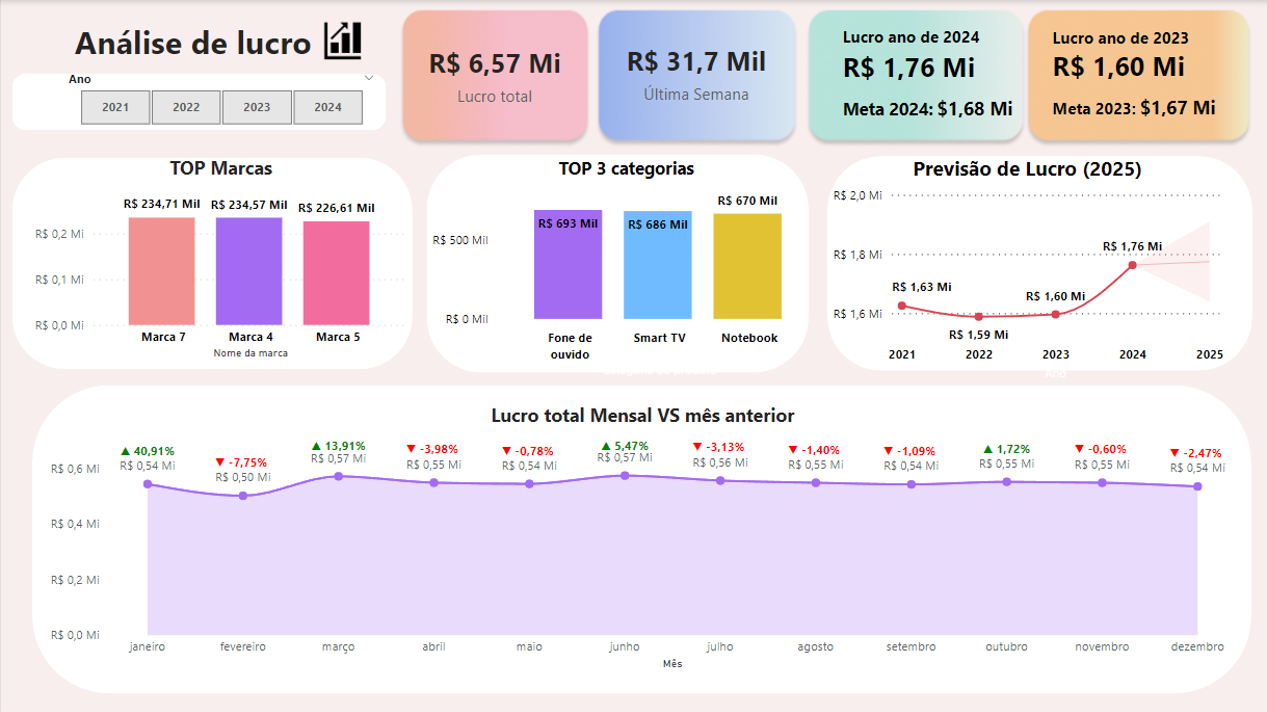

What the dashboard file says about the page in this screenshot:
{"tool":"powerbi","page":{"name":"Análise de Lucro","canvas":[1280,720],"ordinal":0},"visuals":[{"type":"shape","box":[10.9,73.4,378,57.8],"z":0},{"type":"shape","box":[834,157.7,429.5,217.1],"z":1000},{"type":"shape","box":[31.7,388.3,1231.7,311.7],"z":2000},{"type":"shape","box":[11,159.1,404.8,214.2],"z":3000},{"type":"areaChart","title":"Lucro total Mensal VS mês anterior","fields":{"Y":["Medidas.Lucro total","Medidas.Rótulo 2"],"Category":["Calendário.Data.Variation.Hierarquia de datas.Mês","Calendário.Data.Variation.Hierarquia de datas.Dia"]},"box":[44.1,406.4,1208.1,274.1],"z":4000},{"type":"card","fields":{"Values":["Medidas.Lucro total"]},"box":[388.9,6.1,218.7,135.7],"z":5000},{"type":"slicer","fields":{"Values":["Calendário.Ano"]},"box":[55.1,66.2,333.9,66.2],"z":6000},{"type":"cardVisual","fields":{"Data":["Medidas.Lucro ano de 2024","Medidas.Lucro ano de 2023"]},"box":[834,6,430,134],"z":7000},{"type":"clusteredColumnChart","title":"TOP Marcas","fields":{"Y":["Medidas.Lucro total"],"Category":["InfoProdutos.Nome da marca"]},"box":[28.4,155.9,387.5,211.1],"z":8000},{"type":"card","fields":{"Values":["Medidas.LucroÚltimaSemana"]},"box":[607.6,14.2,188.4,117.5],"z":9000},{"type":"shape","box":[430,155.9,385.9,220.5],"z":10000},{"type":"columnChart","title":"TOP 3 categorias","fields":{"Category":["Subcategoria.Categoria do produto"],"Y":["Medidas.Lucro total"]},"box":[430,157.5,403.2,228.4],"z":11000},{"type":"lineChart","title":"Previsão de Lucro (2025)","fields":{"Category":["Calendário.Data.Variation.Hierarquia de datas.Ano","Calendário.Data.Variation.Hierarquia de datas.Trimestre","Calendário.Data.Variation.Hierarquia de datas.Mês","Calendário.Data.Variation.Hierarquia de datas.Dia"],"Y":["Medidas.Lucro Total (sem filtro de segmentação)"]},"box":[834.8,155.9,404.8,233.1],"z":12000},{"type":"textbox","box":[69.3,14.2,289.8,56.7],"z":13000},{"type":"image","box":[310.3,6.3,64.6,67.7],"z":14000}]}

Visuals, with their boxes in screenshot pixels (x1, y1, x2, y2), scaled from the page's 1280x720 canvas onto the 1267x712 screenshot:
shape: BBox(11, 73, 385, 130)
shape: BBox(826, 156, 1251, 371)
shape: BBox(31, 384, 1251, 692)
shape: BBox(11, 157, 412, 369)
"Lucro total Mensal VS mês anterior" areaChart: BBox(44, 402, 1239, 673)
card - Medidas.Lucro total: BBox(385, 6, 601, 140)
slicer - Calendário.Ano: BBox(55, 65, 385, 131)
cardVisual - Medidas.Lucro ano de 2024 x Medidas.Lucro ano de 2023: BBox(826, 6, 1251, 138)
"TOP Marcas" clusteredColumnChart: BBox(28, 154, 412, 363)
card - Medidas.LucroÚltimaSemana: BBox(601, 14, 788, 130)
shape: BBox(426, 154, 808, 372)
"TOP 3 categorias" columnChart: BBox(426, 156, 825, 382)
"Previsão de Lucro (2025)" lineChart: BBox(826, 154, 1227, 385)
textbox: BBox(69, 14, 355, 70)
image: BBox(307, 6, 371, 73)
